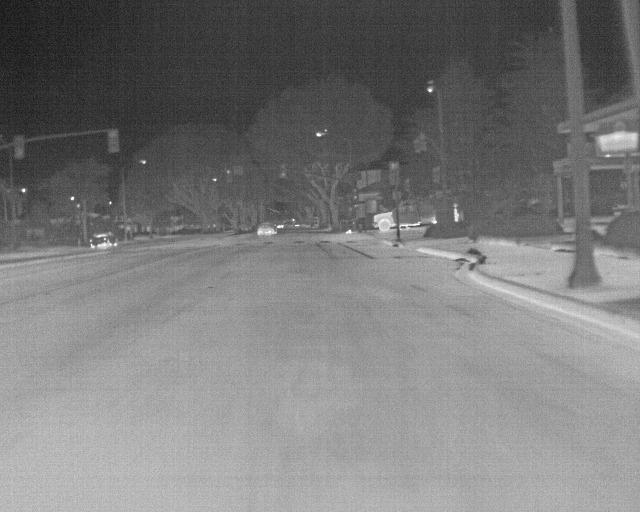car: (398, 198, 437, 228), (373, 208, 397, 231), (90, 230, 119, 249), (255, 220, 276, 238)
